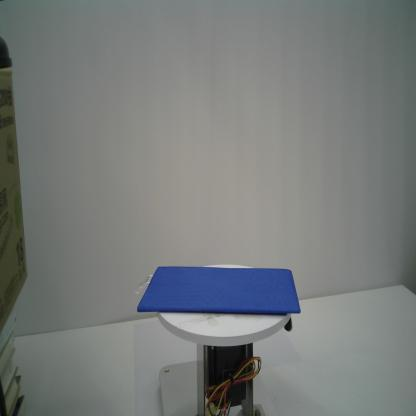Stationery: (134, 263, 302, 335)
